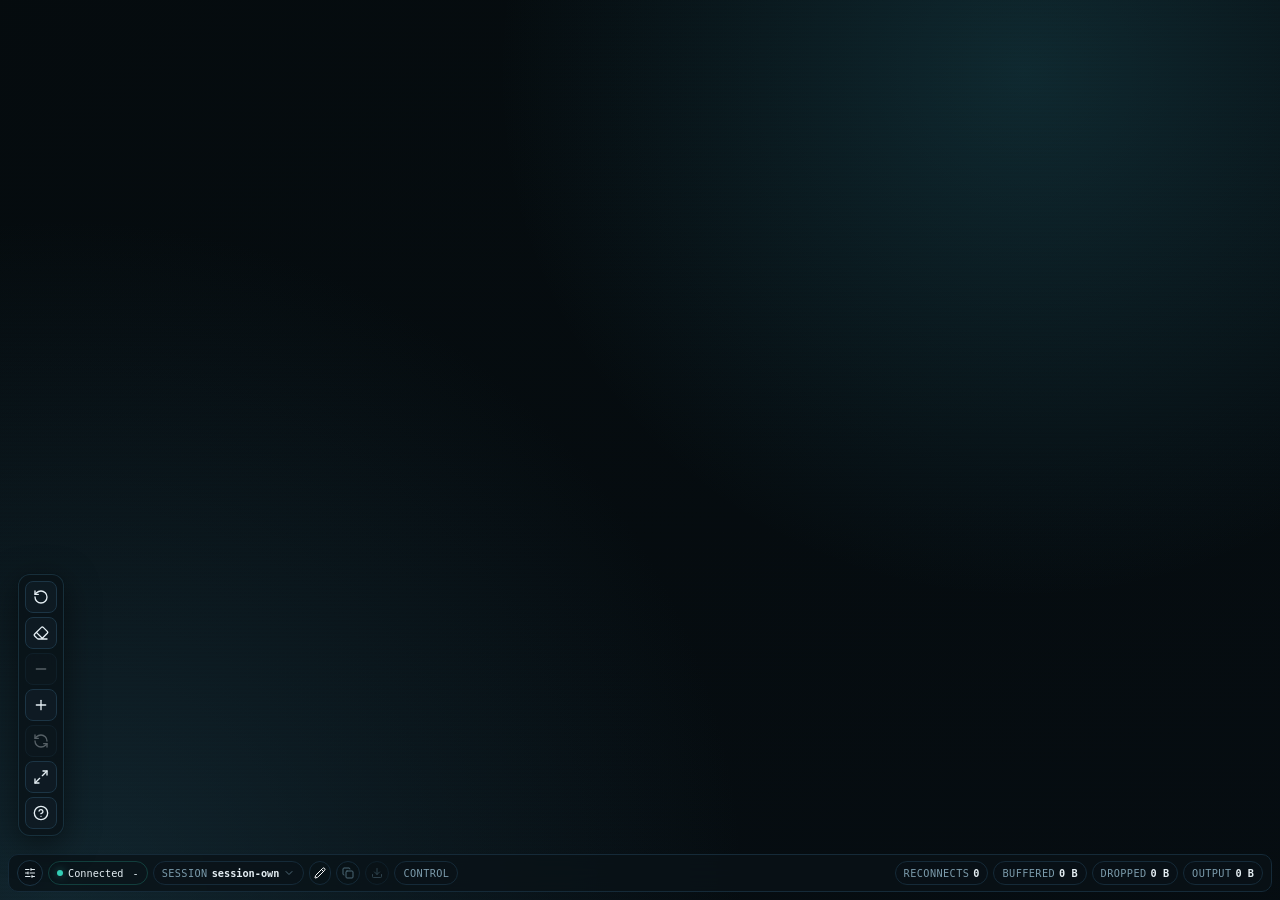
Test case: App integration - session menu › shows an HTTP-context notice when live session refresh returns non-ok
The width and height of the screenshot is (1280, 900).
Click the button with test id "session-menu-button".
click(228, 873)  # box [153,861,304,885]
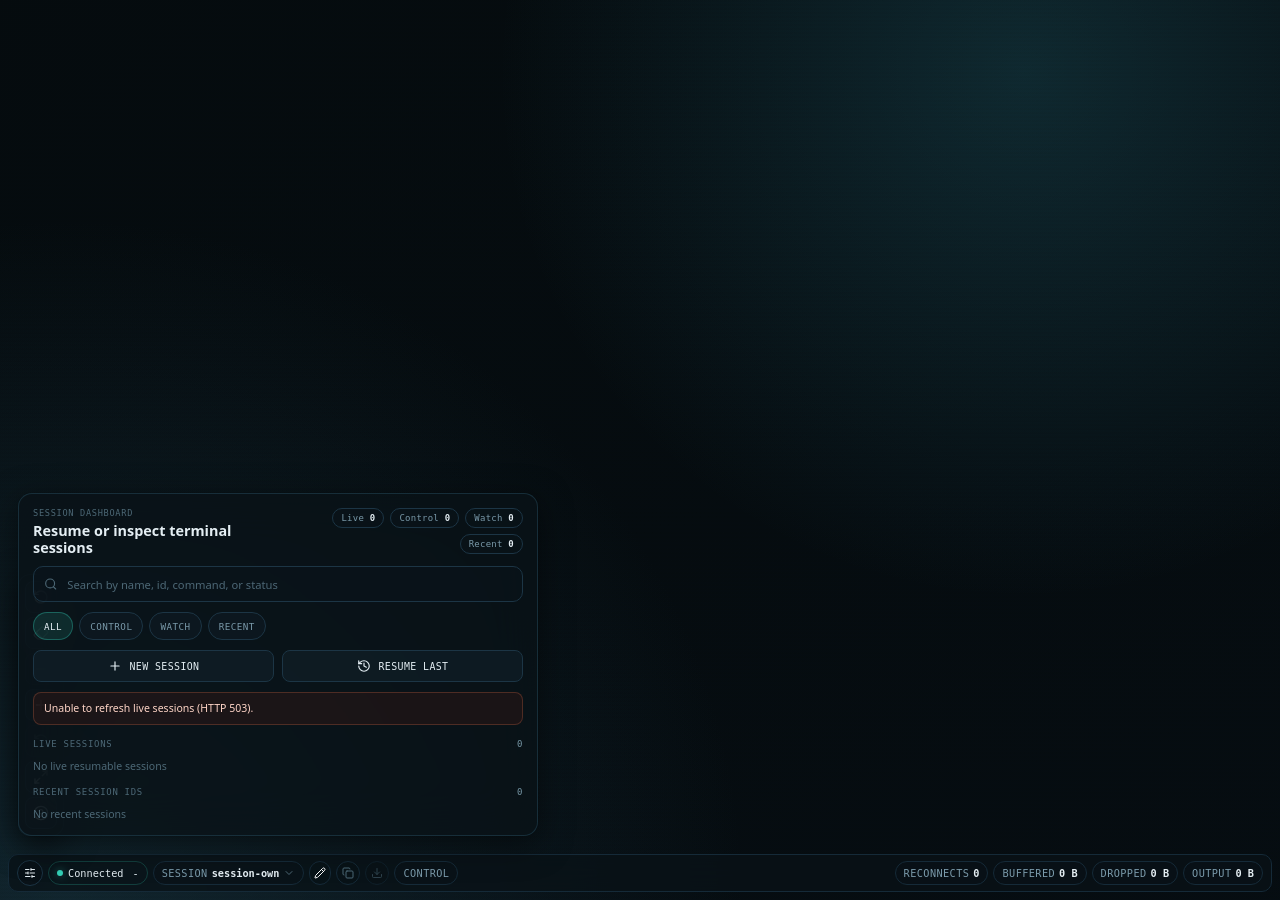
Expected: the text with test id "session-menu-notice" shows "HTTP 503", [44,701,253,715]
